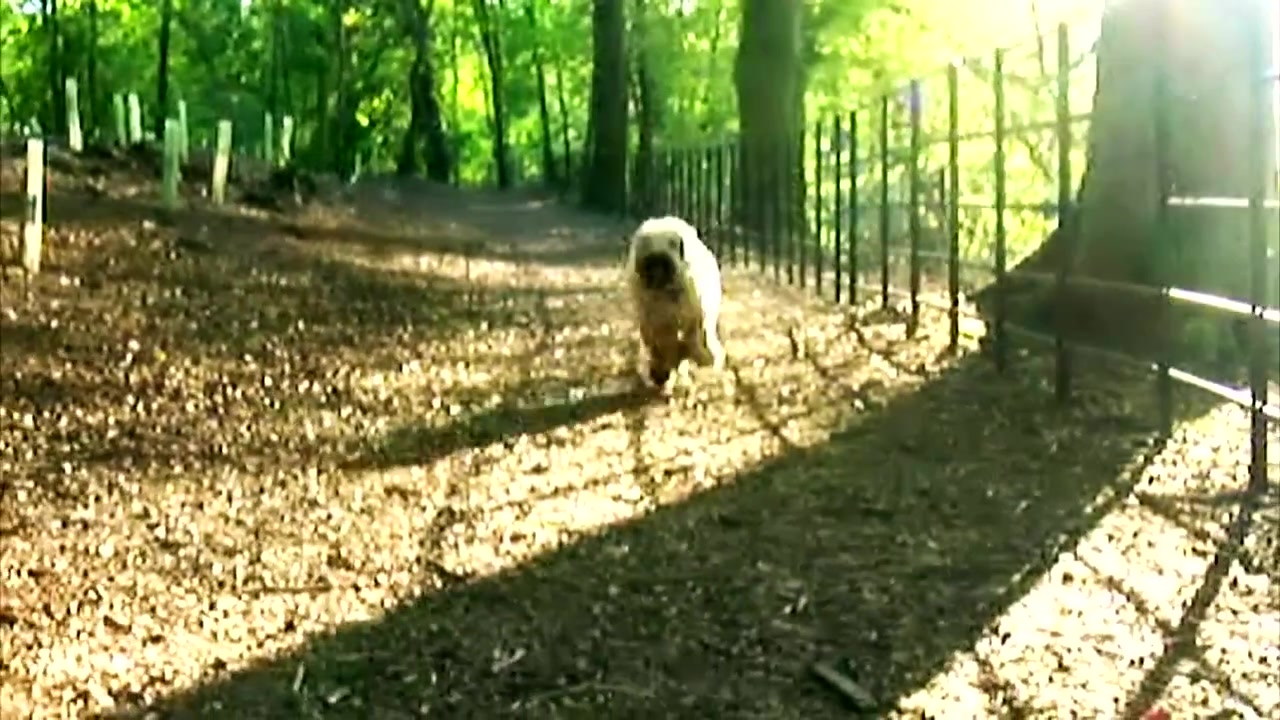dog: (628, 216, 730, 400)
